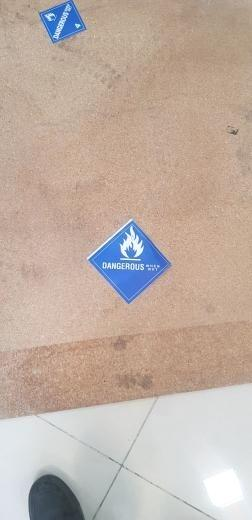dangerous-when-wet: (87, 218, 172, 304), (38, 1, 89, 44)
